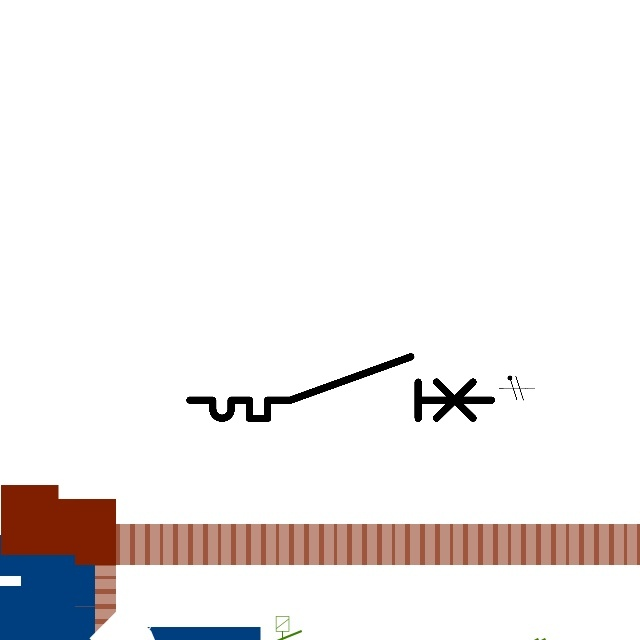interruptor_termomagnetico: (182, 349, 499, 426)
